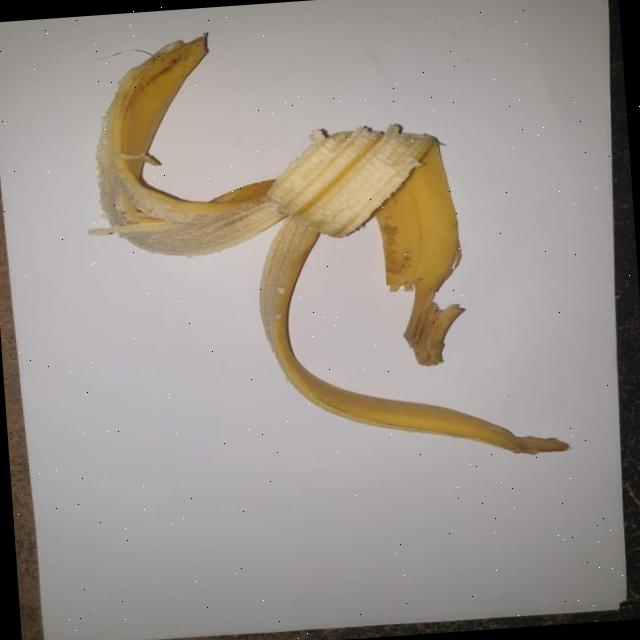banana-peel: (76, 7, 570, 485)
